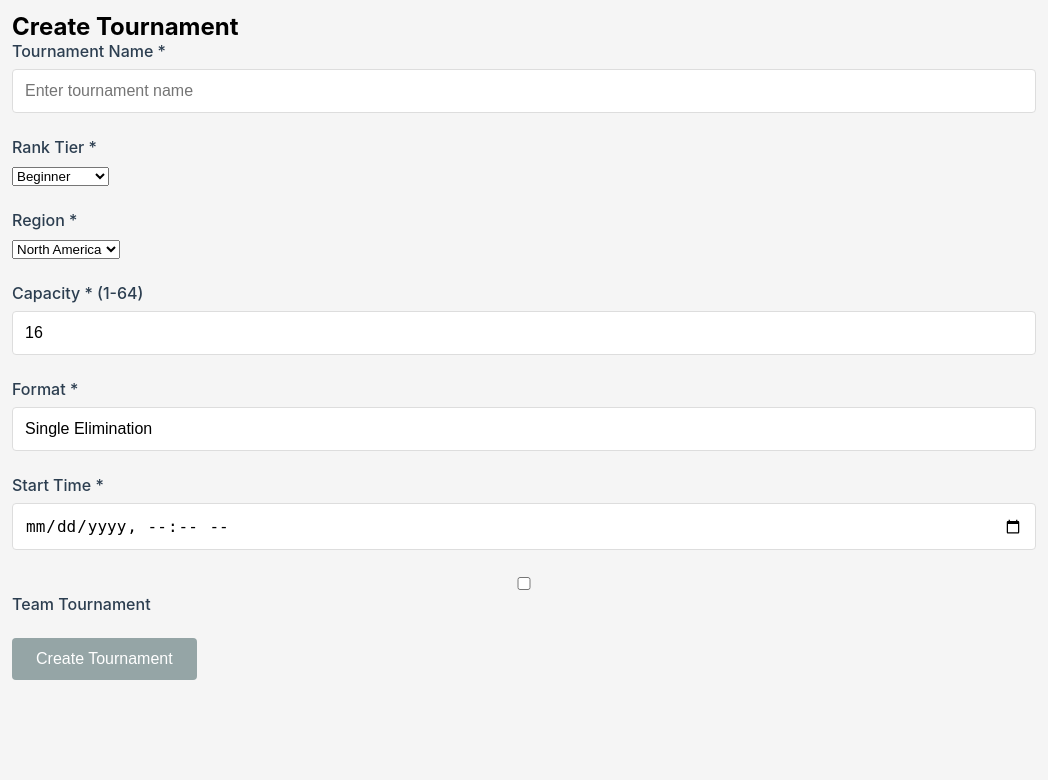
Scenario: TournamentForm Component › should show and hide team_size field based on checkbox
This screenshot has width=1048, height=780.
Expected: the field labelled "team size" is not shown
Click the checkbox labelled "Team Tournament": (524, 584) [12, 577, 1036, 590]
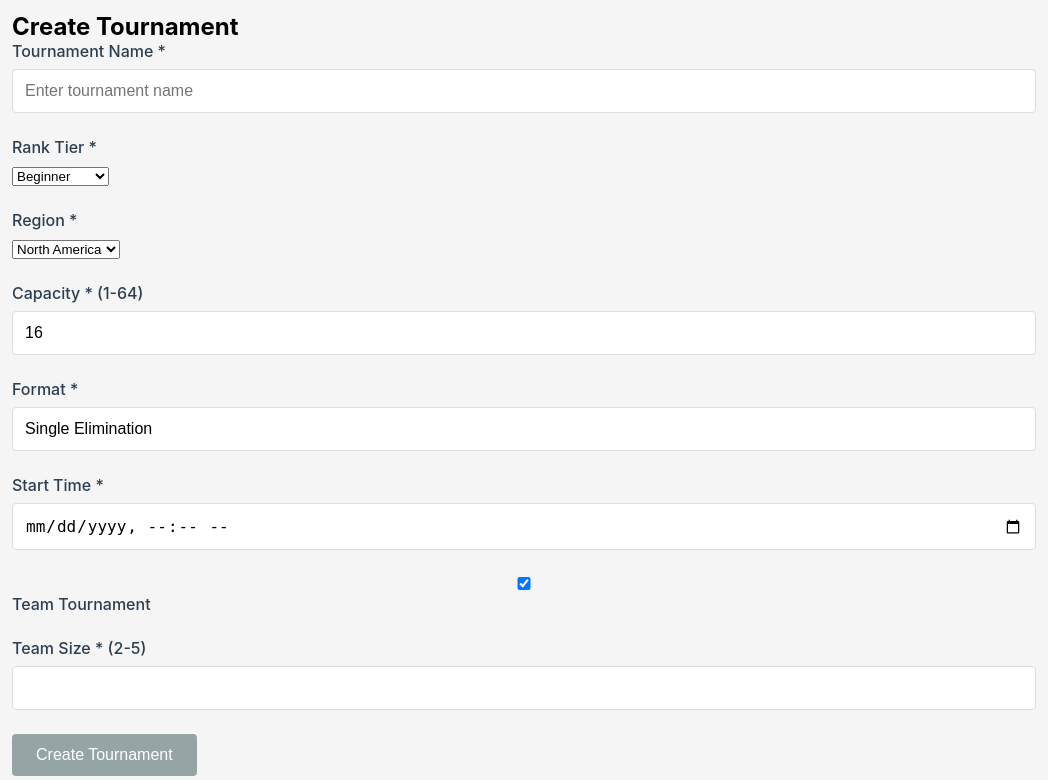
Expected: the number field labelled "Team Size * (2-5)" is shown, [12, 666, 1036, 710]
Click the checkbox labelled "Team Tournament": (524, 584) [12, 577, 1036, 590]
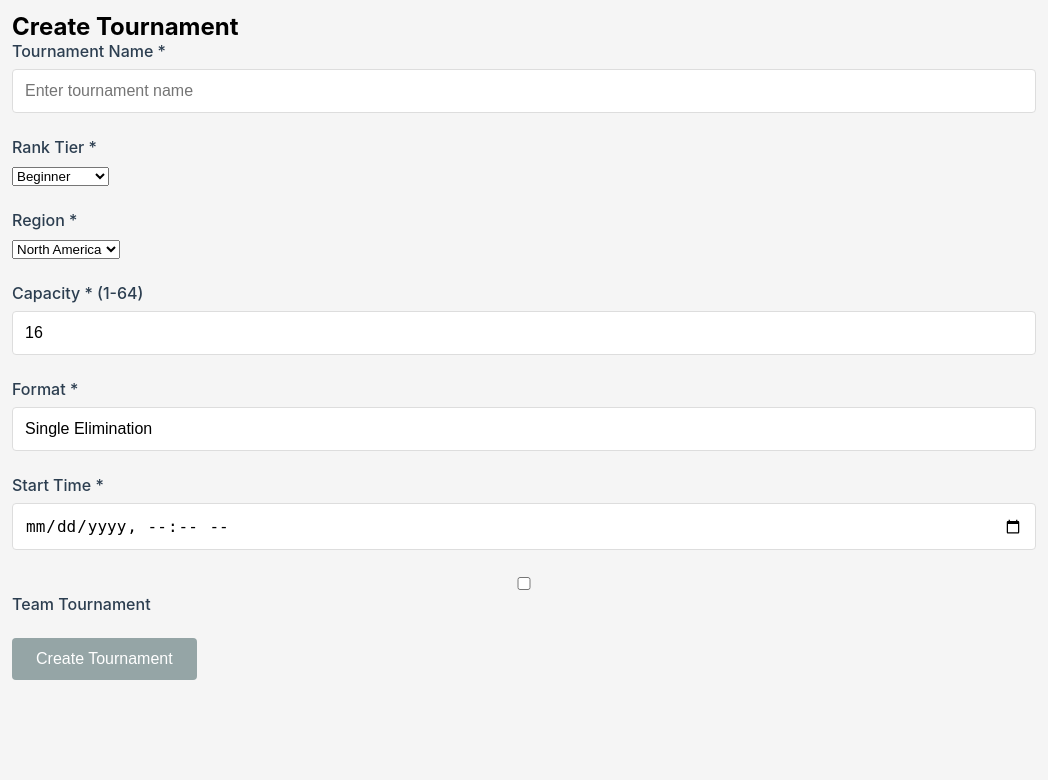
Expected: the label labelled "Team Size" is gone
